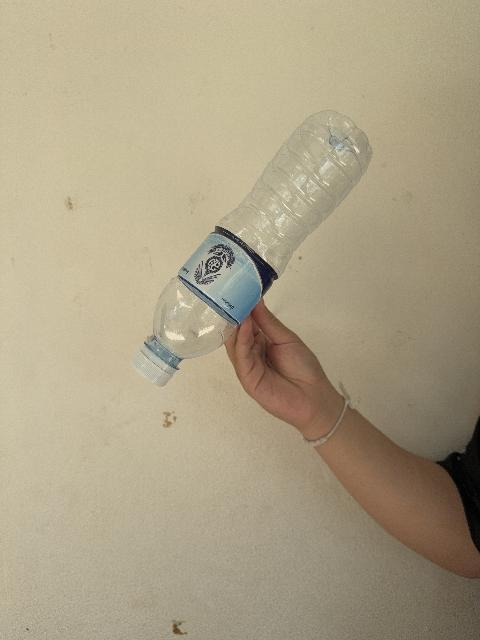bottle: (132, 111, 371, 386)
